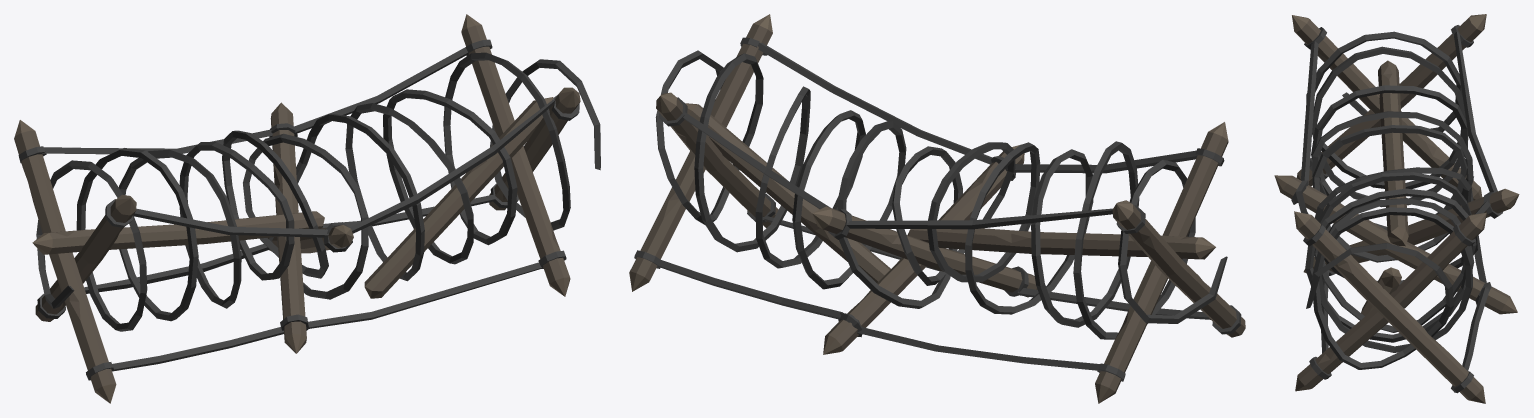
The model's file is Prop_Wire_01_02.fbx.
The picture shows the model from 3 angles, left to right: view 1: azimuth 30°, elevation 25°; view 2: azimuth 150°, elevation 25°; view 3: azimuth 270°, elevation 25°; orthographic projection. The views are drawn at different scales.
Parts seen in each view (by area): view 1: Prop_Wire_01_02_LOD0; view 2: Prop_Wire_01_02_LOD0; view 3: Prop_Wire_01_02_LOD0.
Part boxes in pixels (x1,y1,x2,y2): Prop_Wire_01_02_LOD0: [14, 14, 600, 403]; Prop_Wire_01_02_LOD0: [629, 14, 1245, 403]; Prop_Wire_01_02_LOD0: [1274, 14, 1519, 403].
Size of what is drawn, in the model's own units: 249 by 92.67 by 111.
